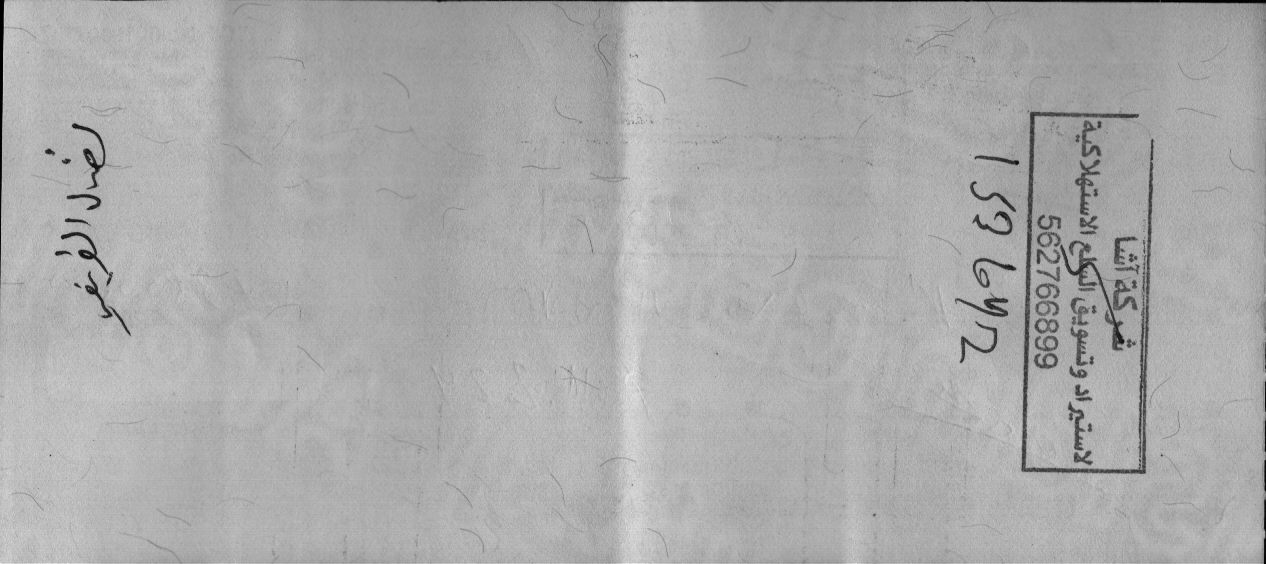stamp: (1020, 107, 1156, 478)
